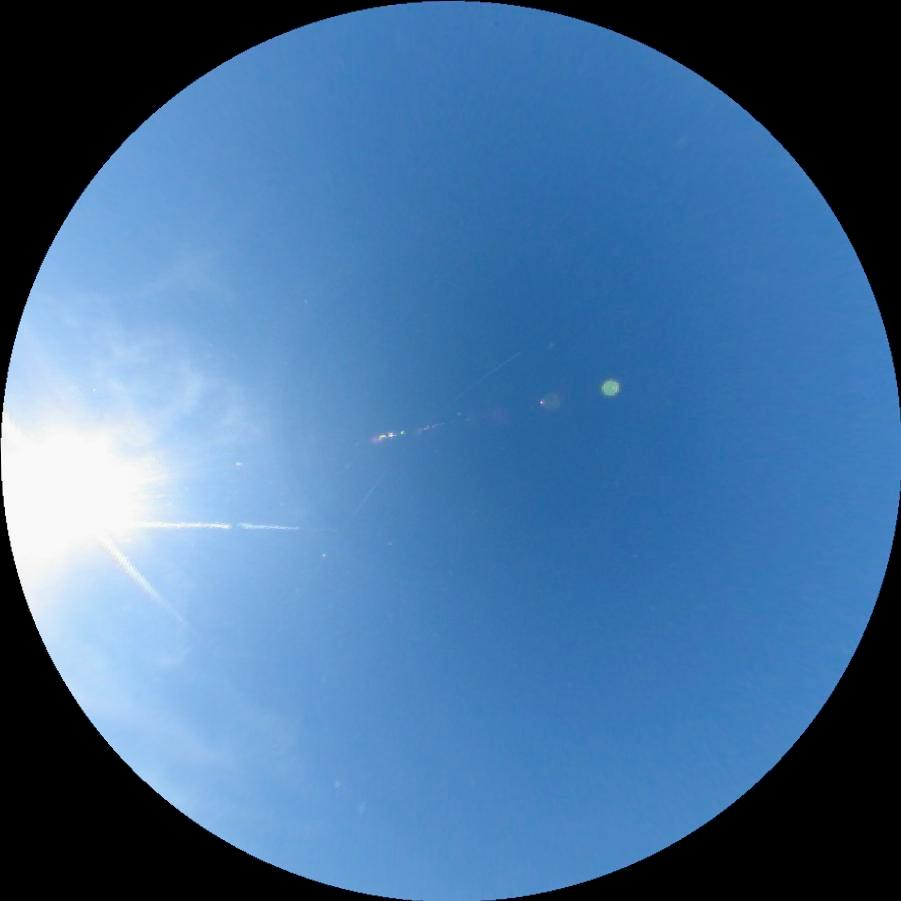contrail old: (0, 415, 186, 630)
contrail young: (338, 339, 521, 517)
parasite: (103, 517, 298, 534)
